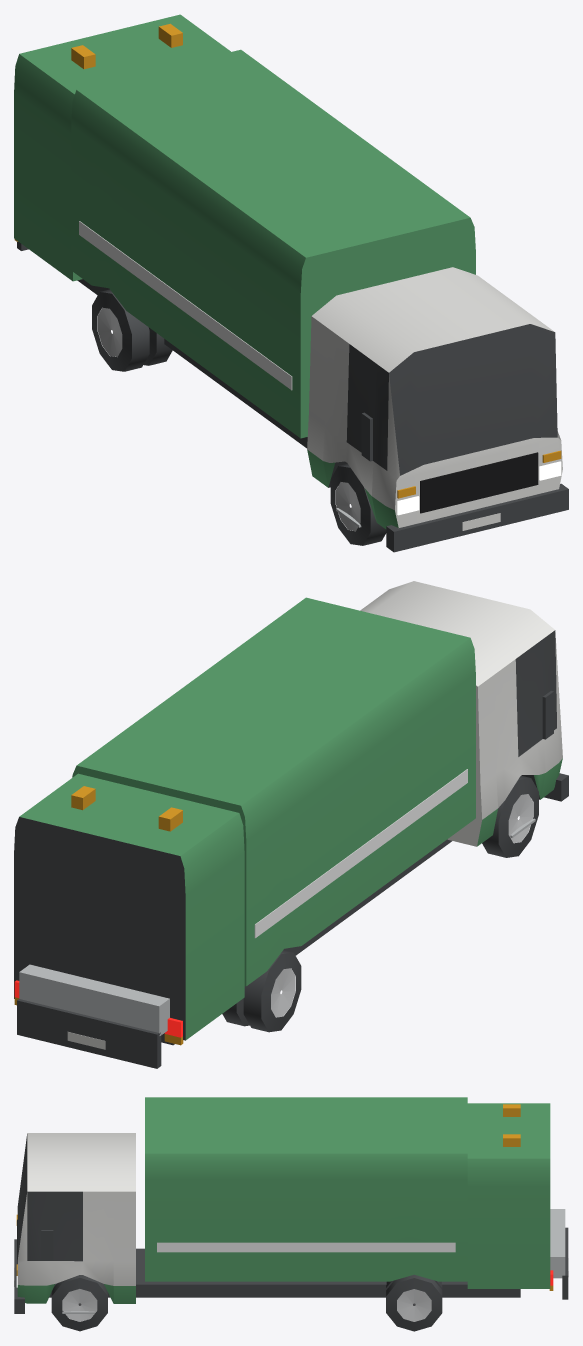
The model's file is garbage_truck_lod1.glb.
The picture shows the model from 3 angles, top to bottom: view 1: azimuth 30°, elevation 25°; view 2: azimuth 150°, elevation 25°; view 3: azimuth 270°, elevation 25°; orthographic projection. The views are drawn at different scales.
Visible parts, largest first — view 1: garbage_truck_lod1; view 2: garbage_truck_lod1; view 3: garbage_truck_lod1.
Part boxes in pixels (<box>): garbage_truck_lod1: <box>14,14,568,552</box>; garbage_truck_lod1: <box>14,581,568,1068</box>; garbage_truck_lod1: <box>14,1097,568,1331</box>.
Bounding box in the file's own units: 0.126 × 0.169 × 0.4689.
